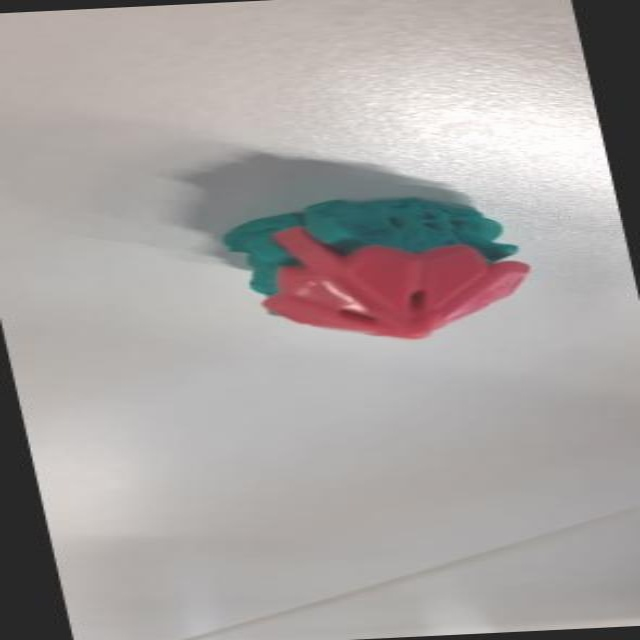House: (203, 192, 543, 350)
